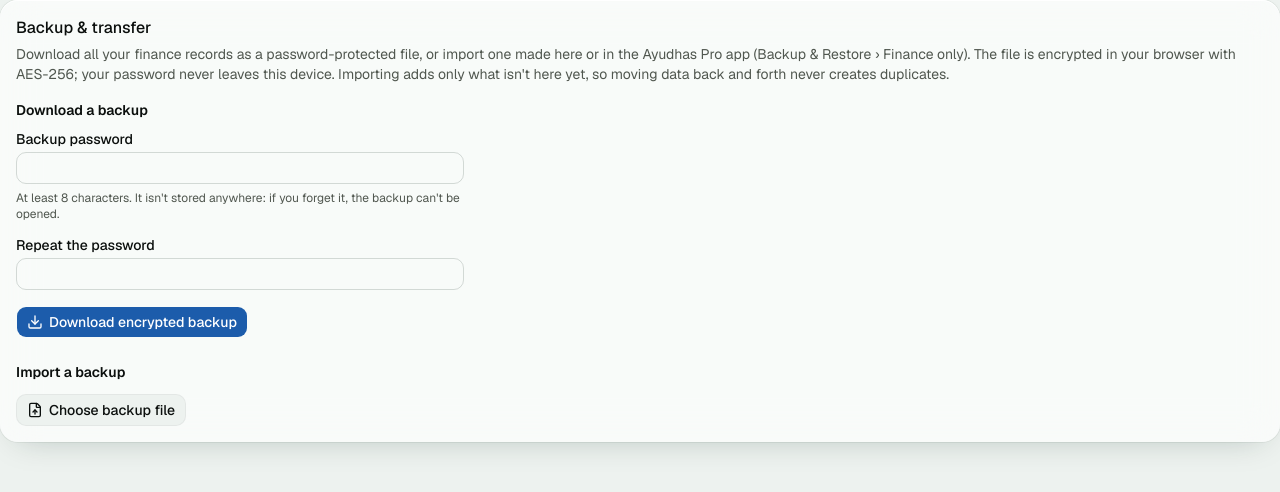
Test: Backup & transfer › won't encrypt with a short or mismatched password
Type "longenough" into the password field labelled "Backup password" at (240, 168), box [16,152,464,184]
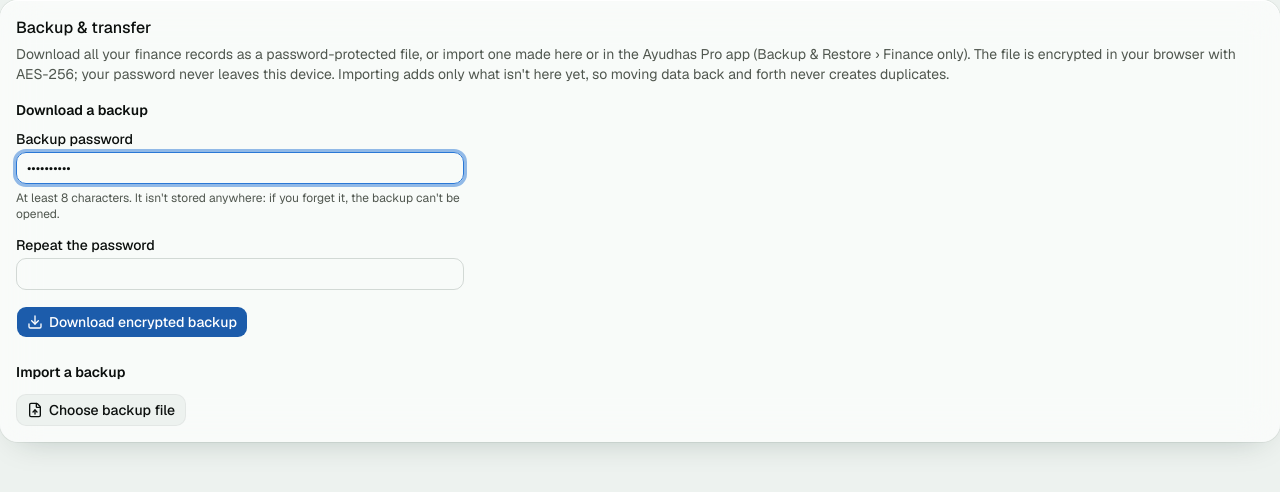
Type "different1" into the password field labelled "Repeat the password" at (240, 274), box [16,258,464,290]
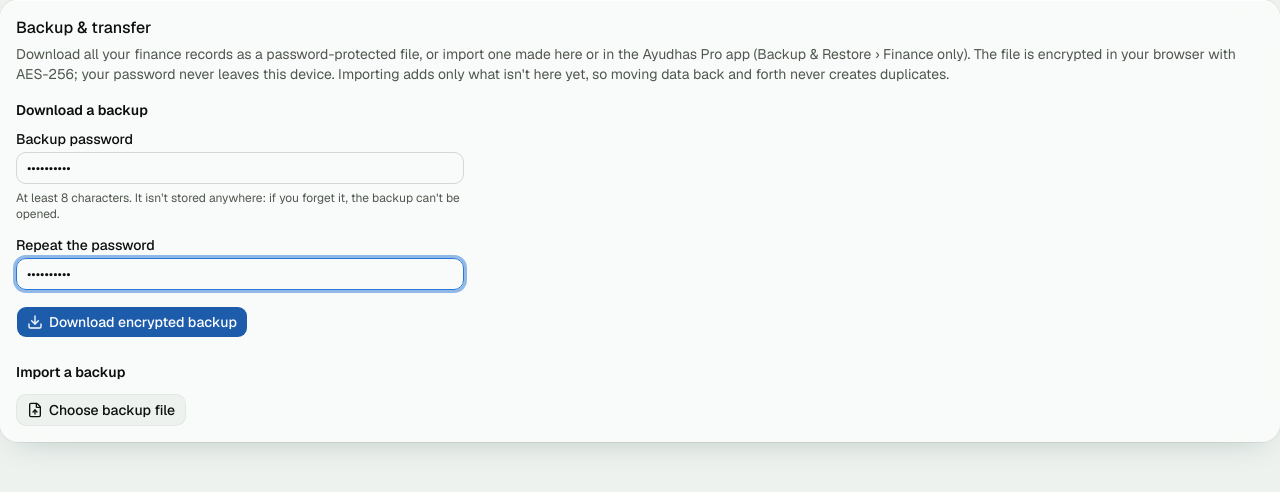
Click the button "Download encrypted backup" at (132, 322), box [16,306,248,338]
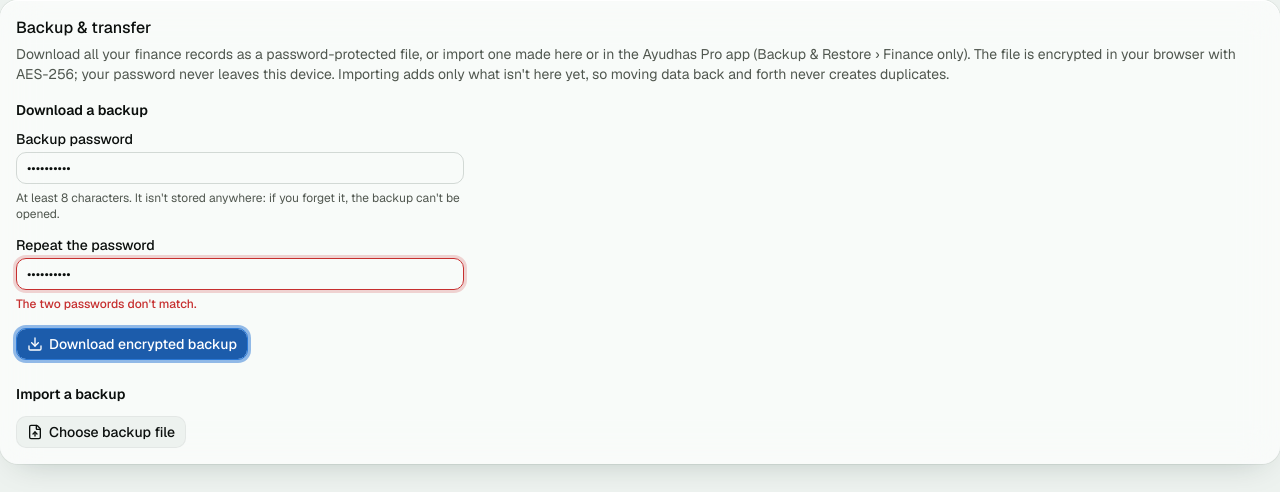
Expected: the text "The two passwords don't match." is shown, [16,296,196,312]
